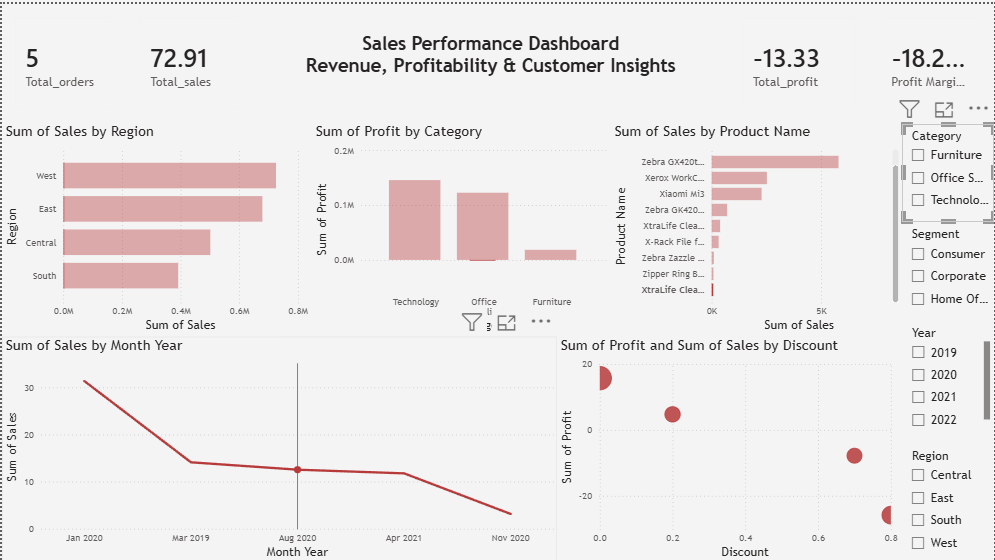

Layout of this report page (visuals, bound fields, positions):
{"tool":"powerbi","page":{"name":"Page 1","canvas":[1280,720],"ordinal":0},"visuals":[{"type":"cardVisual","fields":{"Data":["Orders.Total_sales"]},"box":[161.7,0,161.7,153.3],"z":0},{"type":"cardVisual","fields":{"Data":["Orders.Total_orders"]},"box":[0,0,161.7,153.3],"z":1},{"type":"cardVisual","fields":{"Data":["Orders.Total_profit"]},"box":[938.3,0,180,153.3],"z":2},{"type":"cardVisual","fields":{"Data":["Orders.Profit Margin %"]},"box":[1118.3,0,161.7,153.3],"z":3},{"type":"textbox","box":[322.6,0,616.1,153.2],"z":4},{"type":"clusteredBarChart","fields":{"Category":["Orders.Region"],"Y":["Sum(Orders.Sales)"]},"box":[0,153.3,400,275],"z":5},{"type":"clusteredColumnChart","fields":{"Category":["Orders.Category"],"Y":["Sum(Orders.Profit)"]},"box":[400,153.3,385,275],"z":6},{"type":"lineChart","fields":{"Category":["Orders.Month Year"],"Y":["Sum(Orders.Sales)"]},"box":[0,428.3,716.7,291.7],"z":7},{"type":"barChart","fields":{"Category":["Orders.Product Name"],"Y":["Sum(Orders.Sales)"]},"box":[785,153.3,376.7,275],"z":8},{"type":"scatterChart","fields":{"Size":["Sum(Orders.Sales)"],"Y":["Sum(Orders.Profit)"],"X":["Orders.Discount"]},"box":[716.7,428.3,445,291.7],"z":9},{"type":"slicer","fields":{"Values":["Orders.Region"]},"box":[1161.7,568.3,118.3,151.7],"z":10},{"type":"slicer","fields":{"Values":["Orders.Category"]},"box":[1161.7,155,118.3,126.7],"z":12},{"type":"slicer","fields":{"Values":["Orders.Segment"]},"box":[1161.7,281.7,118.3,128.3],"z":13},{"type":"slicer","fields":{"Values":["Orders.Year"]},"box":[1161.7,410,118.3,143.3],"z":14}]}

Visuals, with their boxes in screenshot pixels (x1, y1, x2, y2), scaled from the page's 1280x720 canvas onto the 995x560 screenshot:
cardVisual - Orders.Total_sales: (126, 0, 251, 119)
cardVisual - Orders.Total_orders: (0, 0, 126, 119)
cardVisual - Orders.Total_profit: (729, 0, 869, 119)
cardVisual - Orders.Profit Margin %: (869, 0, 994, 119)
textbox: (251, 0, 730, 119)
clusteredBarChart - Orders.Region x Sum(Orders.Sales): (0, 119, 311, 333)
clusteredColumnChart - Orders.Category x Sum(Orders.Profit): (311, 119, 610, 333)
lineChart - Orders.Month Year x Sum(Orders.Sales): (0, 333, 557, 559)
barChart - Orders.Product Name x Sum(Orders.Sales): (610, 119, 903, 333)
scatterChart - Sum(Orders.Sales) x Sum(Orders.Profit): (557, 333, 903, 559)
slicer - Orders.Region: (903, 442, 994, 559)
slicer - Orders.Category: (903, 121, 994, 219)
slicer - Orders.Segment: (903, 219, 994, 319)
slicer - Orders.Year: (903, 319, 994, 430)
